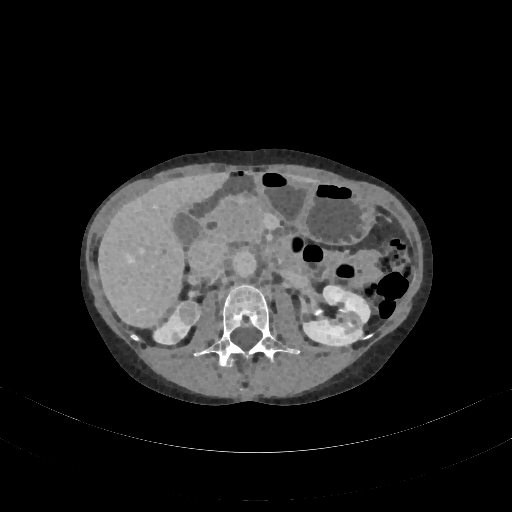Lesion: (177, 300, 199, 326)
